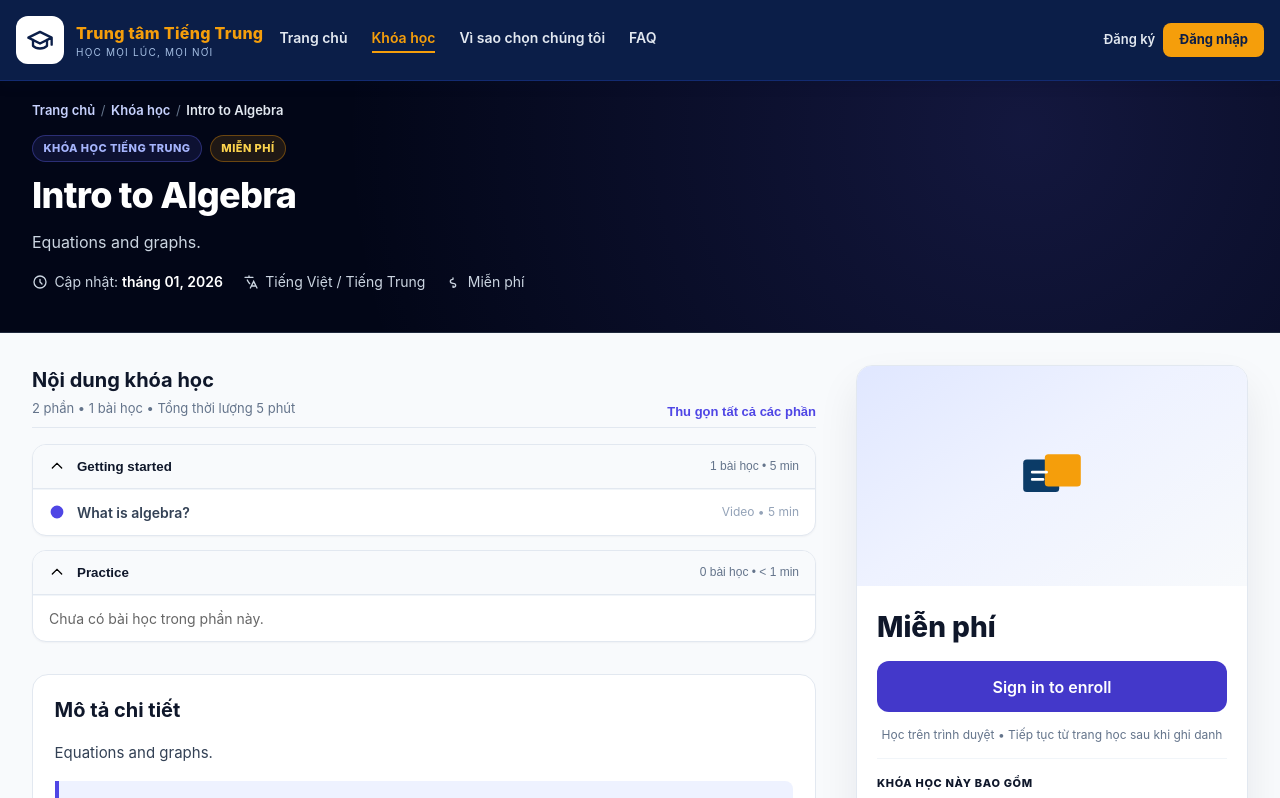
course detail page › expands and collapses curriculum sections independently
Expected: the text "What is algebra?" is shown, [77, 504, 190, 521]
Expected: the button "Practice 0 bài học • < 1 min" is shown, [33, 550, 815, 595]
Click the button "Getting started 1 bài học • 5 min" at (124, 466), box [33, 445, 815, 489]
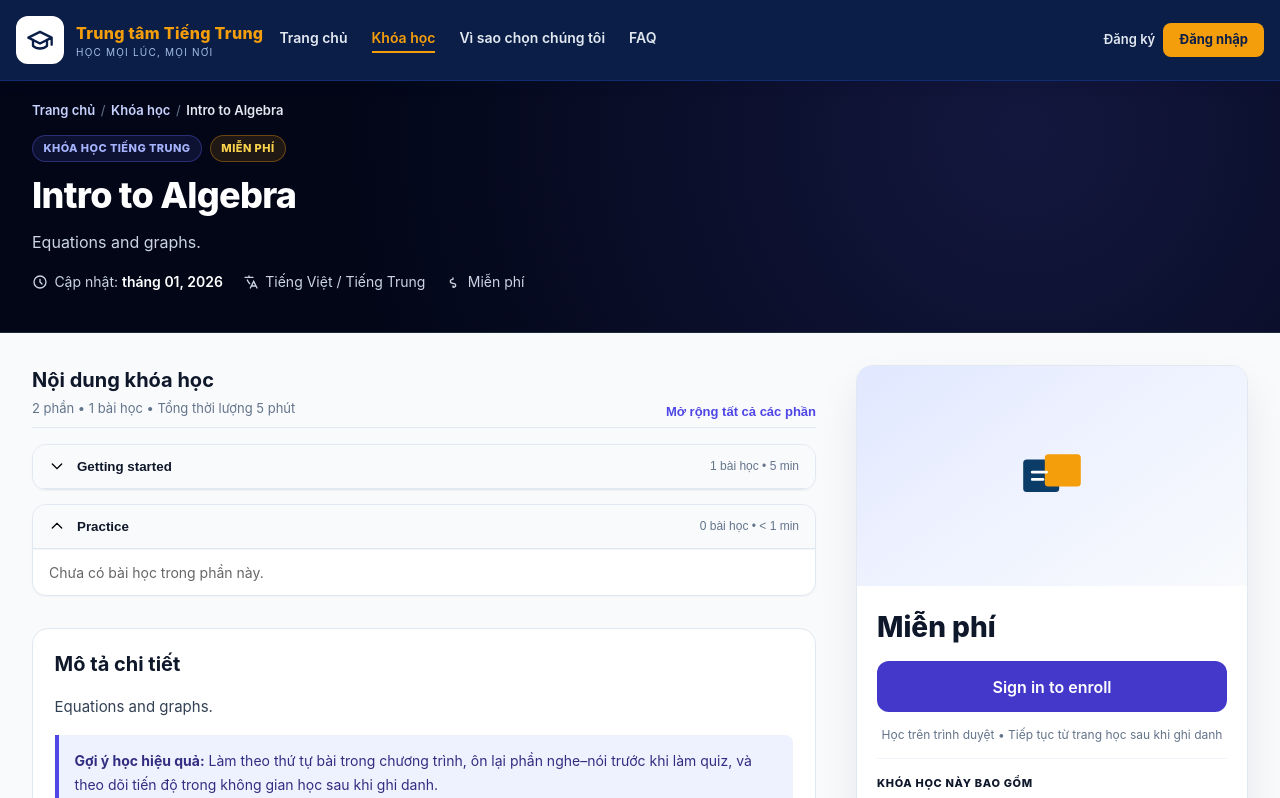
Expected: the list item "Chưa có bài học trong phần này." is shown, [33, 549, 815, 595]
Expected: the button "Getting started 1 bài học • 5 min" is collapsed
Expected: the text "What is algebra?" is gone
Click the button "Getting started 1 bài học • 5 min" at (124, 466), box [33, 445, 815, 489]
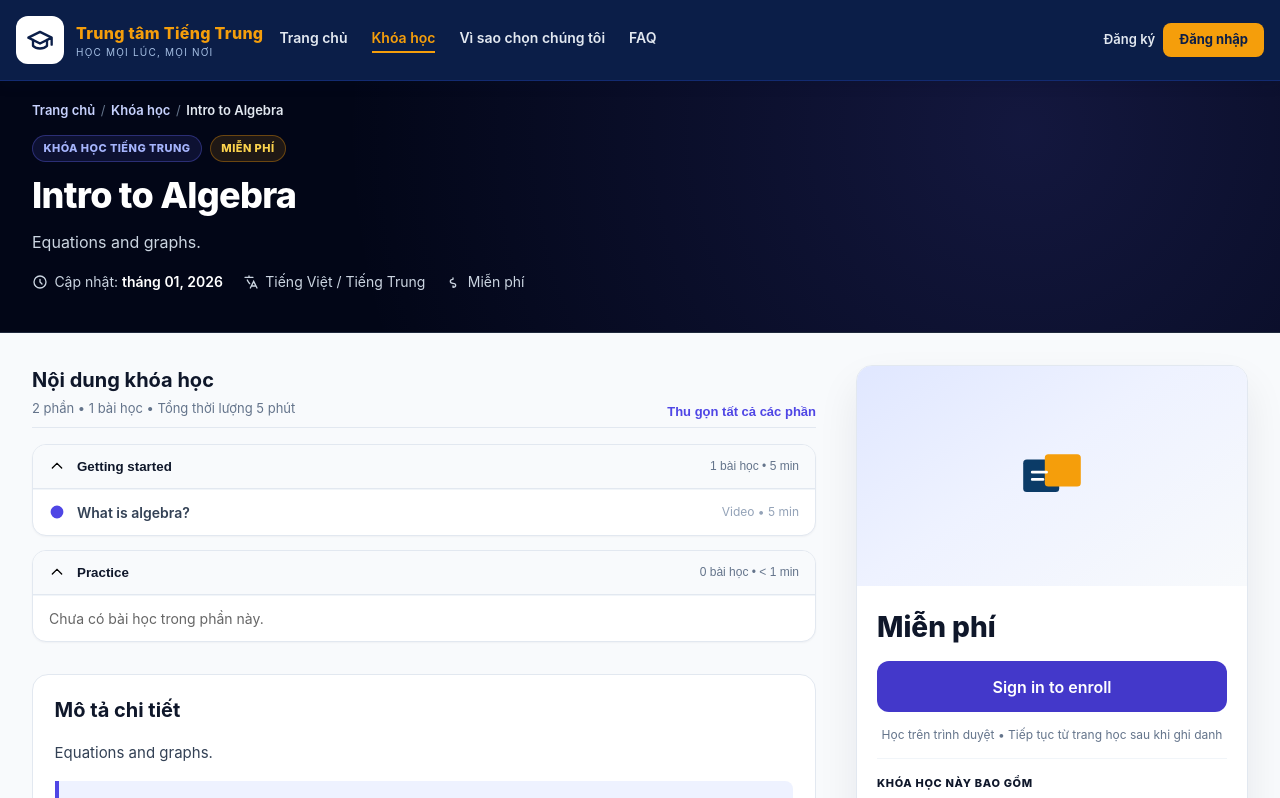
Expected: the button "Getting started 1 bài học • 5 min" is expanded, [33, 445, 815, 489]
Expected: the text "What is algebra?" is shown, [77, 504, 190, 521]
